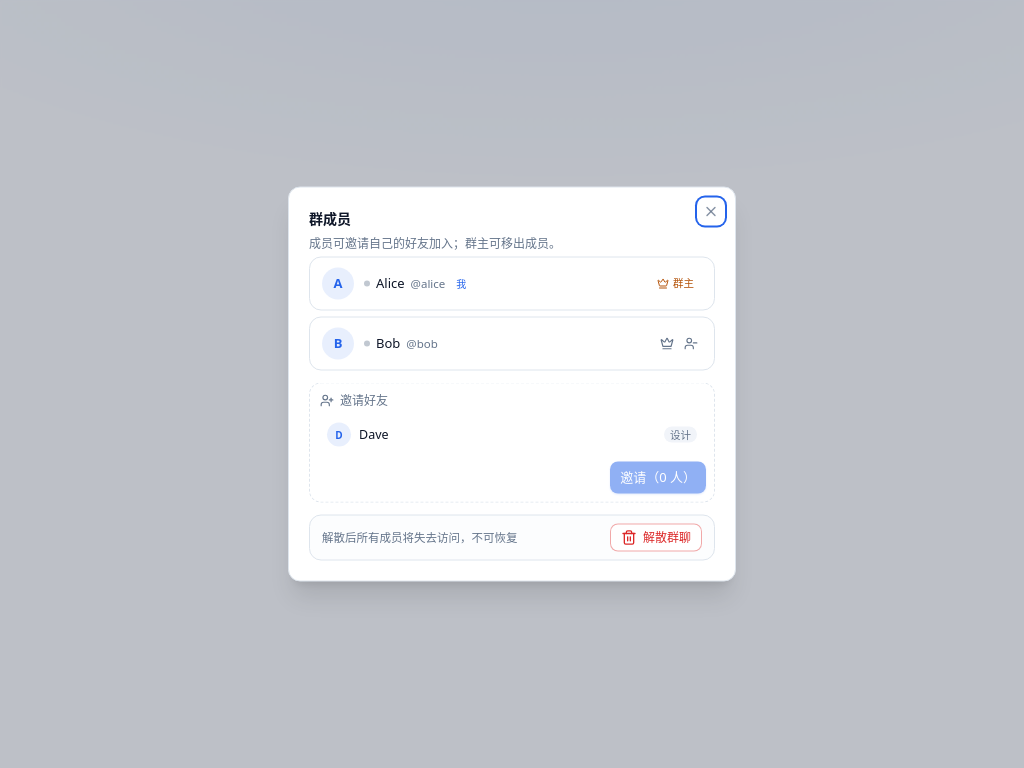
Scenario: M79-F：ChatMembersDialog（群） › 群主移出：二次确认 → DELETE /shares/:userId
This screenshot has width=1024, height=768.
Expected: the text "Bob" is shown, [376,334,400,353]
Click the button titled "移出成员" at (691, 344), box [680,332,702,354]
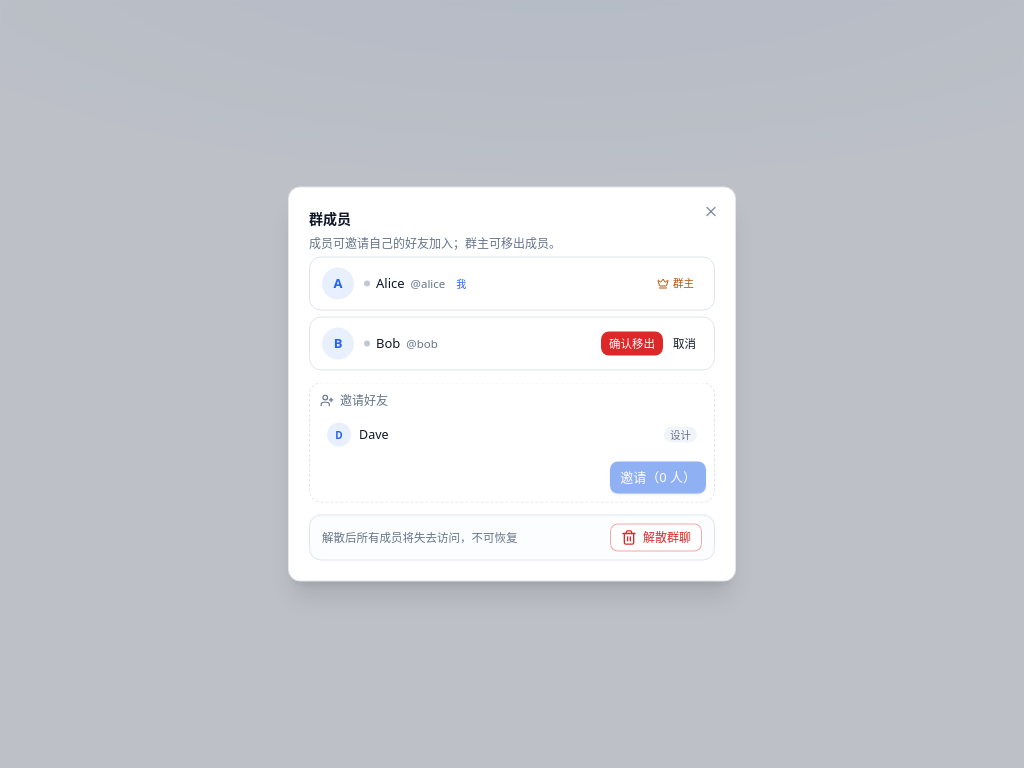
Click the button "确认移出" at (632, 344), box [601,332,663,356]
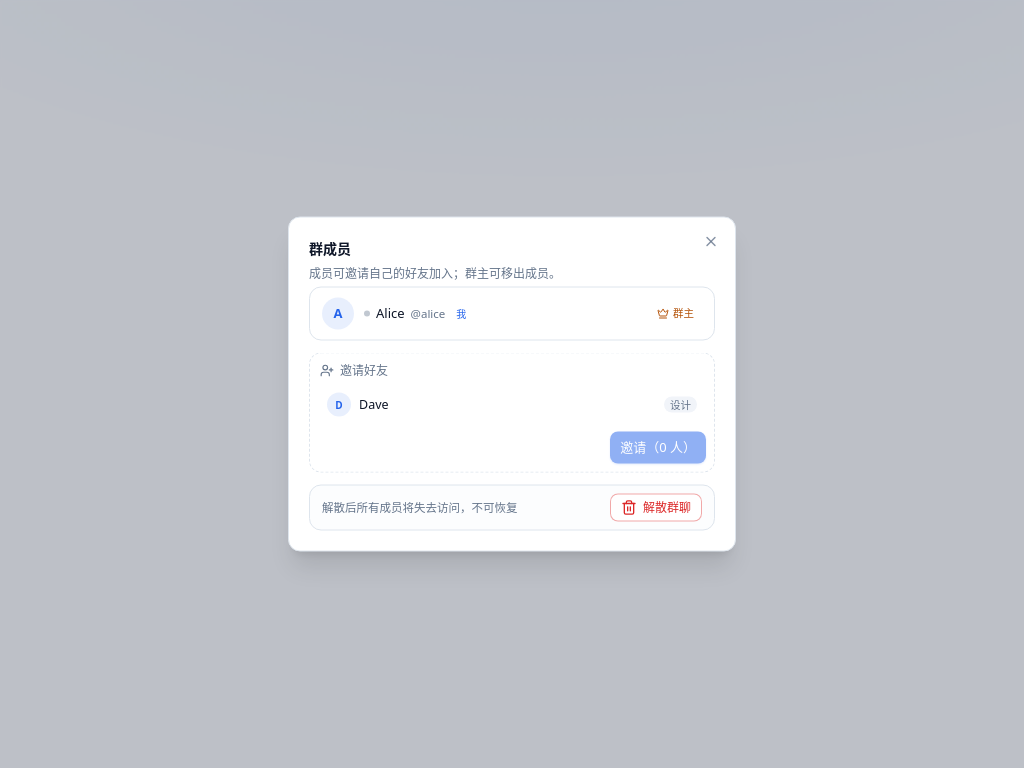
Now the text "@bob" is gone
